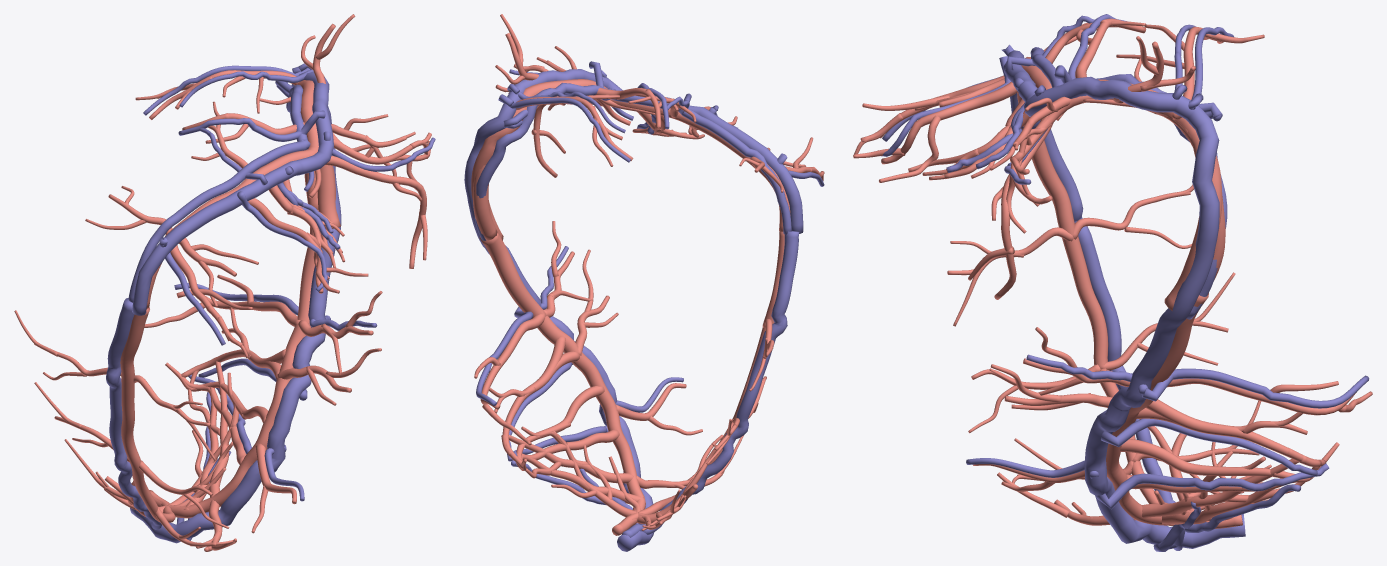
The model's file is vessels_34.glb.
The picture shows the model from 3 angles, left to right: view 1: azimuth 30°, elevation 25°; view 2: azimuth 150°, elevation 25°; view 3: azimuth 270°, elevation 25°; orthographic projection. The views are drawn at different scales.
Visible parts, largest first — view 1: Renderer Node; view 2: Renderer Node; view 3: Renderer Node.
Part boxes in pixels (x1,y1,x2,y2): Renderer Node: [14, 14, 435, 551]; Renderer Node: [464, 14, 824, 551]; Renderer Node: [853, 14, 1372, 551].
Size of the model in its own units: 87.73 by 119 by 91.48.
